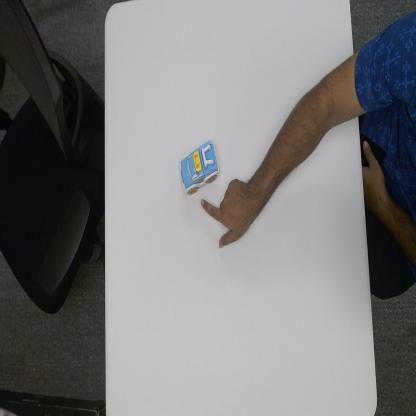Arm: (255, 58, 358, 214)
Car: (178, 139, 220, 197)
Hand: (200, 179, 255, 251)
